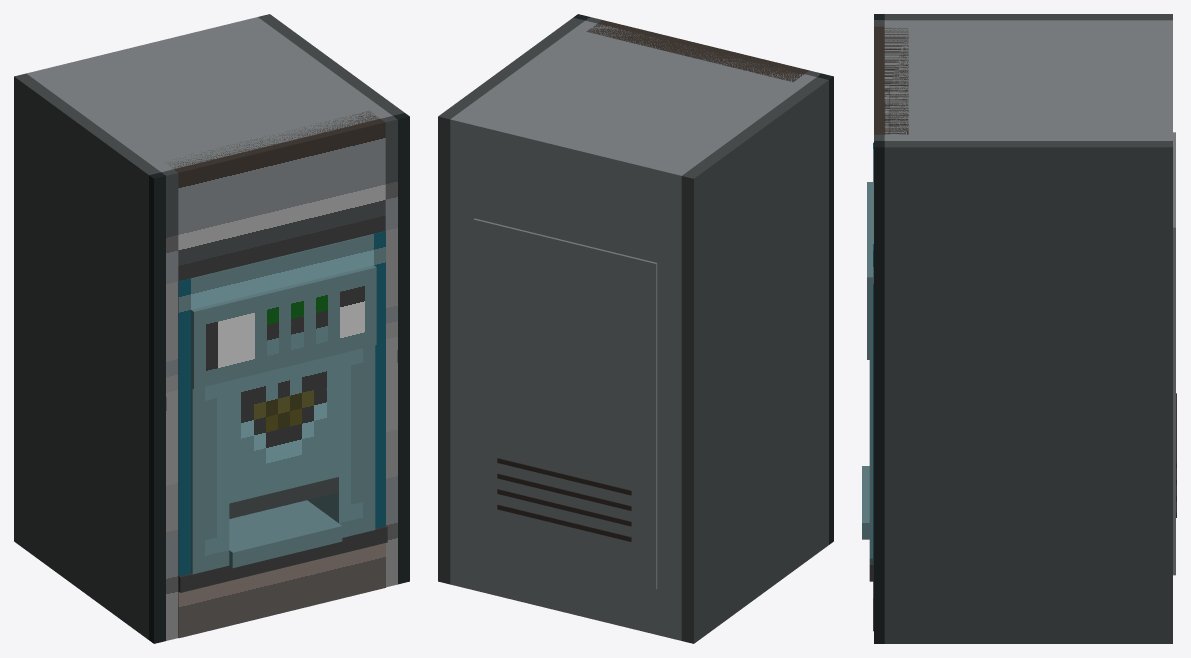
The model's file is CMU3DSnackVendor.glb.
3 views of the same model, side by side, from view 1: azimuth 30°, elevation 25°; view 2: azimuth 150°, elevation 25°; view 3: azimuth 270°, elevation 25° (orthographic). The views are drawn at different scales.
Parts seen in each view (by area): view 1: left cabinet side, cabinet roof, silver header, food emblem panel, upper control bank, left silver face rail, teal door rim upper, right silver face rail, bottom plinth, pickup bottom tray, dark lower band, rear cabinet (+8 smaller); view 2: left cabinet side, inferred rear service hatch, rear cabinet, cabinet roof, right cabinet side, silver header, left silver face rail, rear cooling slot 3, rear cooling slot 1, rear cooling slot 2, rear cooling slot 4; view 3: right cabinet side, cabinet roof, right silver face rail, silver header, rear cabinet, left cabinet side, inferred rear service hatch, upper control bank, pickup bottom tray, food emblem panel.
Boxes of the visible parts, x1=… form: left cabinet side: x1=14, y1=73, x2=160, y2=639; cabinet roof: x1=34, y1=23, x2=392, y2=172; silver header: x1=166, y1=111, x2=385, y2=281; food emblem panel: x1=191, y1=345, x2=375, y2=512; upper control bank: x1=191, y1=265, x2=376, y2=389; left silver face rail: x1=149, y1=169, x2=178, y2=643; teal door rim upper: x1=178, y1=231, x2=385, y2=514; right silver face rail: x1=381, y1=113, x2=409, y2=587; bottom plinth: x1=178, y1=543, x2=385, y2=638; pickup bottom tray: x1=229, y1=500, x2=342, y2=567; dark lower band: x1=178, y1=526, x2=387, y2=592; rear cabinet: x1=26, y1=17, x2=265, y2=78; left cabinet side: x1=681, y1=77, x2=828, y2=643; inferred rear service hatch: x1=473, y1=218, x2=657, y2=589; rear cabinet: x1=450, y1=113, x2=689, y2=640; cabinet roof: x1=458, y1=20, x2=816, y2=169; right cabinet side: x1=438, y1=17, x2=584, y2=584; silver header: x1=586, y1=20, x2=809, y2=82; left silver face rail: x1=805, y1=70, x2=833, y2=544; rear cooling slot 3: x1=497, y1=489, x2=631, y2=526; rear cooling slot 1: x1=497, y1=458, x2=631, y2=495; rear cooling slot 2: x1=497, y1=473, x2=631, y2=510; rear cooling slot 4: x1=497, y1=504, x2=631, y2=541; right cabinet side: x1=884, y1=141, x2=1172, y2=643; cabinet roof: x1=884, y1=20, x2=1156, y2=140; right silver face rail: x1=874, y1=134, x2=884, y2=643; silver header: x1=874, y1=26, x2=908, y2=134; rear cabinet: x1=1156, y1=20, x2=1172, y2=140; left cabinet side: x1=884, y1=14, x2=1172, y2=20; inferred rear service hatch: x1=1173, y1=132, x2=1175, y2=575; upper control bank: x1=867, y1=182, x2=872, y2=359; pickup bottom tray: x1=862, y1=466, x2=869, y2=539; food emblem panel: x1=869, y1=360, x2=872, y2=492.
Size of the model in its own units: 0.6562 by 1.14 by 0.655.
Materials: 19 (15 with a texture image).
